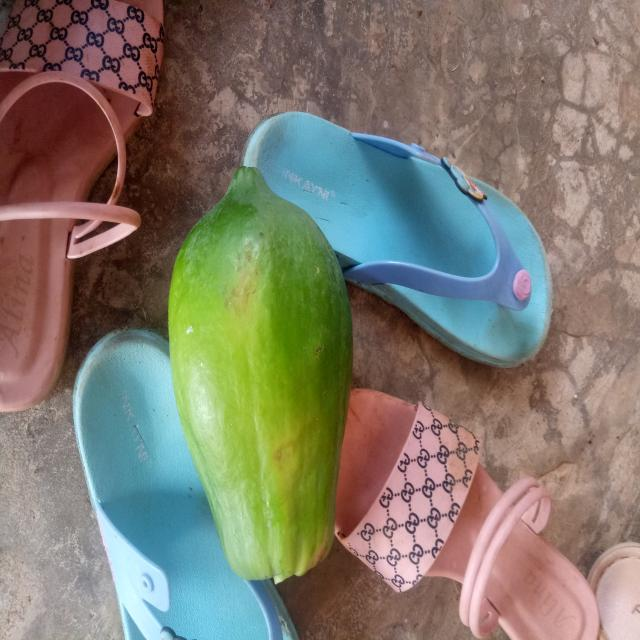Pepaya unrippen: (169, 154, 353, 592)
